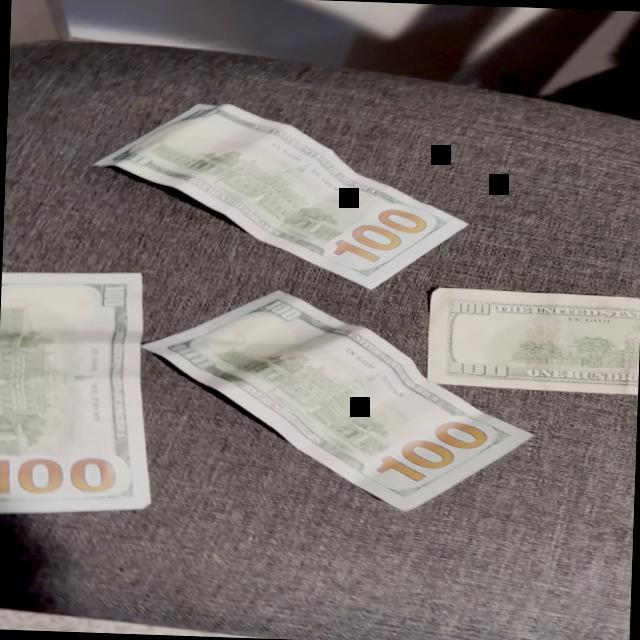hundred: (142, 290, 538, 513), (94, 102, 470, 291), (0, 272, 153, 512), (426, 287, 640, 395)
